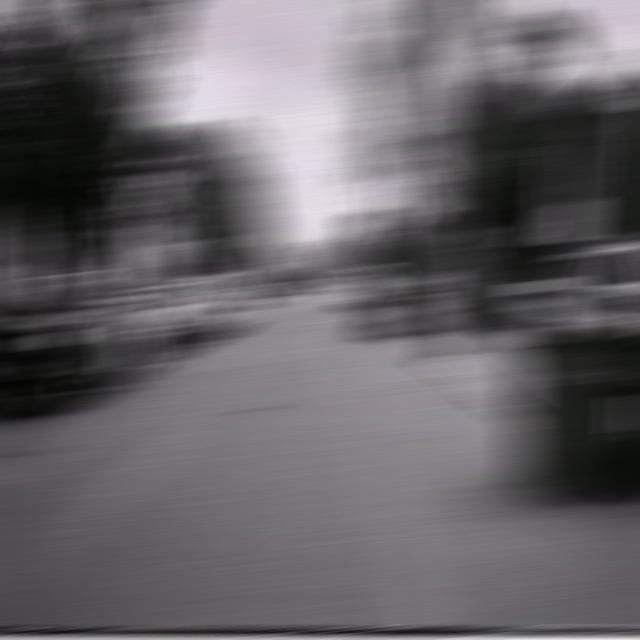stop_sign: (372, 228, 404, 248)
